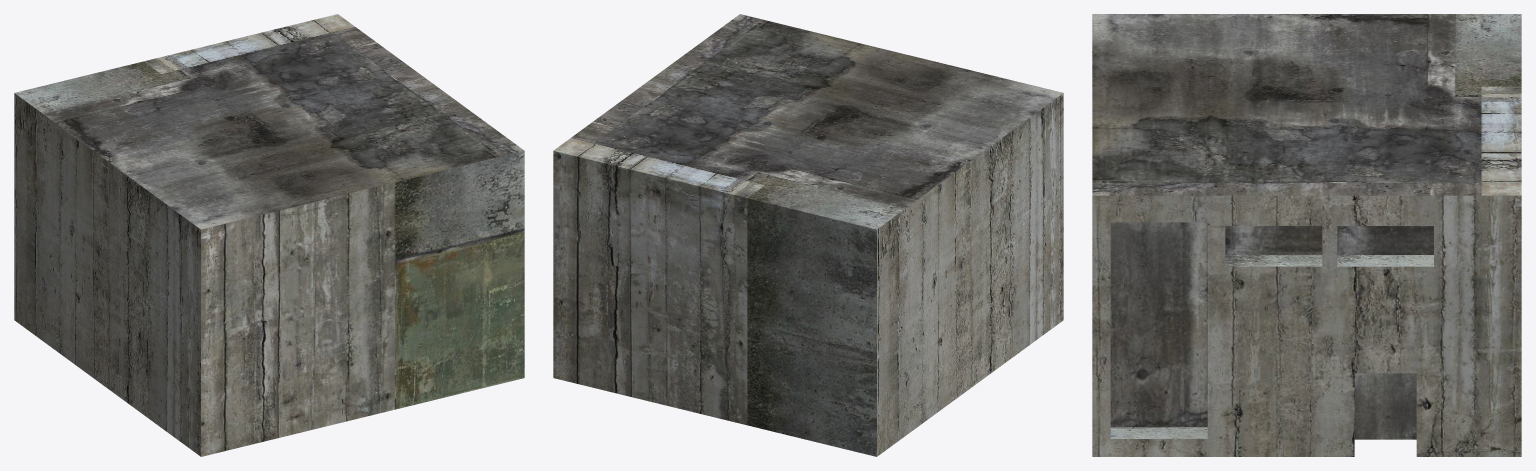
3 views of the same model, side by side, from view 1: azimuth 30°, elevation 25°; view 2: azimuth 150°, elevation 25°; view 3: azimuth 270°, elevation 25° (orthographic). The views are drawn at different scales.
Parts seen in each view (by area): view 1: Cube.069; view 2: Cube.069; view 3: Cube.069.
Boxes of the visible parts, x1,y1,x2,y2 form: Cube.069: [14, 14, 524, 456]; Cube.069: [553, 14, 1063, 456]; Cube.069: [1092, 14, 1521, 456].
Bounding box in the file's own units: 2 × 1.34 × 2.
Materials: 1 (1 with a texture image).
